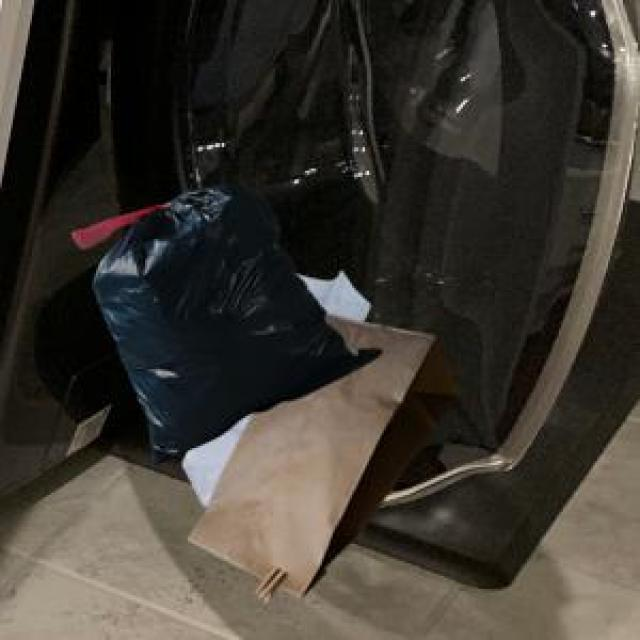miscellaneous trash: (68, 181, 378, 461)
paper: (184, 309, 454, 597)
